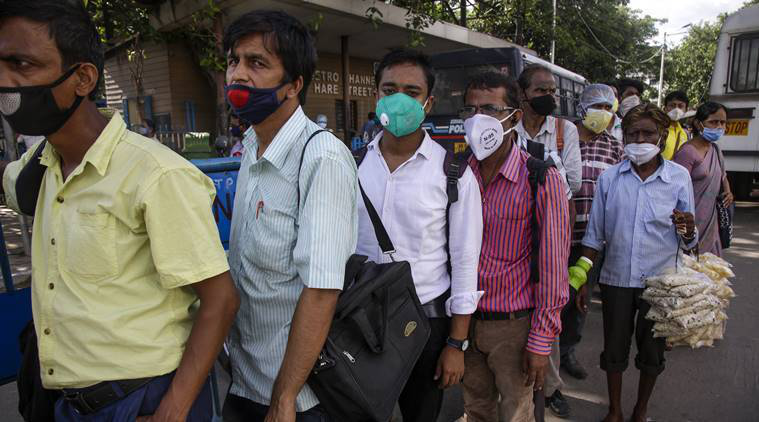mask_weared_incorrect: (223, 33, 307, 127), (624, 116, 671, 167)
with_mask: (374, 62, 437, 139), (461, 86, 524, 163)
